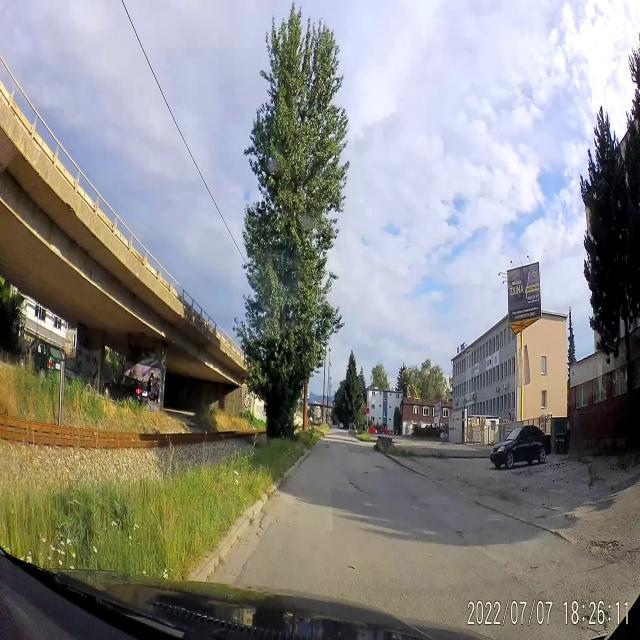Pothole: (580, 526, 630, 574), (250, 503, 278, 549), (343, 469, 372, 507), (453, 523, 465, 548), (320, 438, 334, 452), (372, 464, 386, 471)
